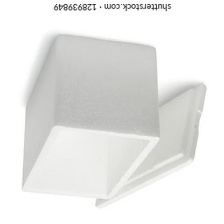foam_box: (16, 28, 212, 213)
